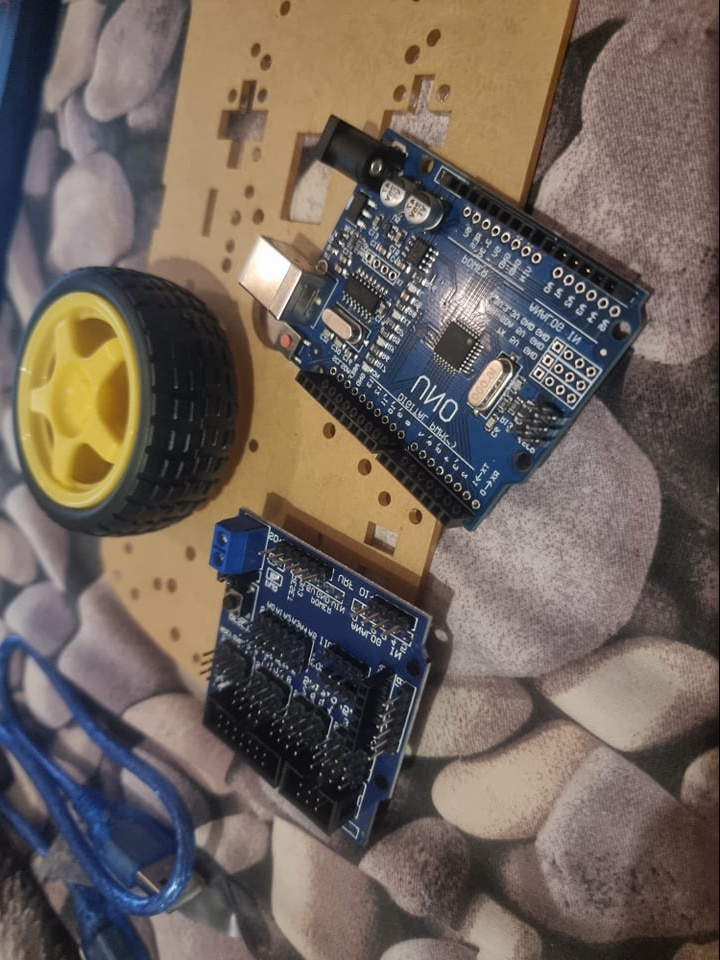5V EXPANSION: (200, 509, 438, 854)
UNO R3: (238, 118, 645, 531)
